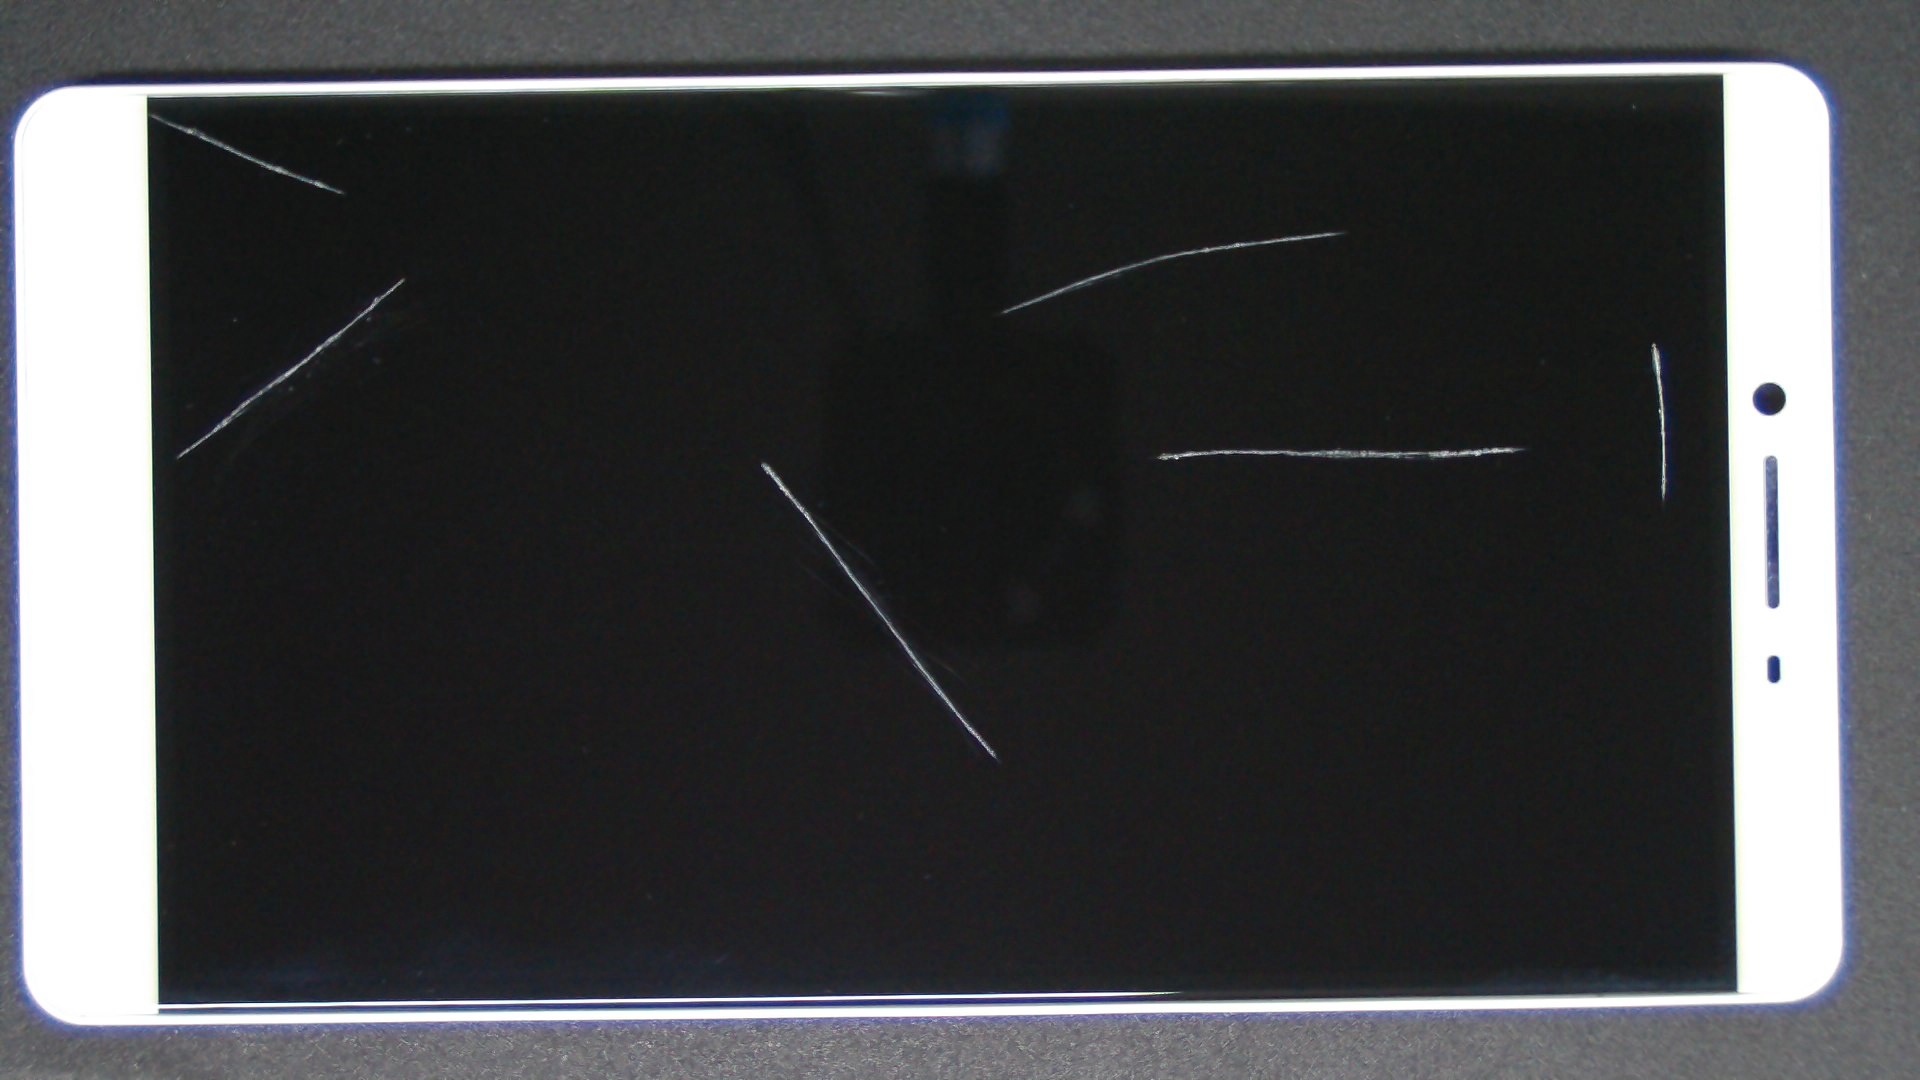oil: (752, 222, 1920, 669), (827, 170, 1920, 512), (382, 229, 1145, 691), (666, 115, 1920, 345), (203, 137, 603, 415), (75, 55, 225, 169)
